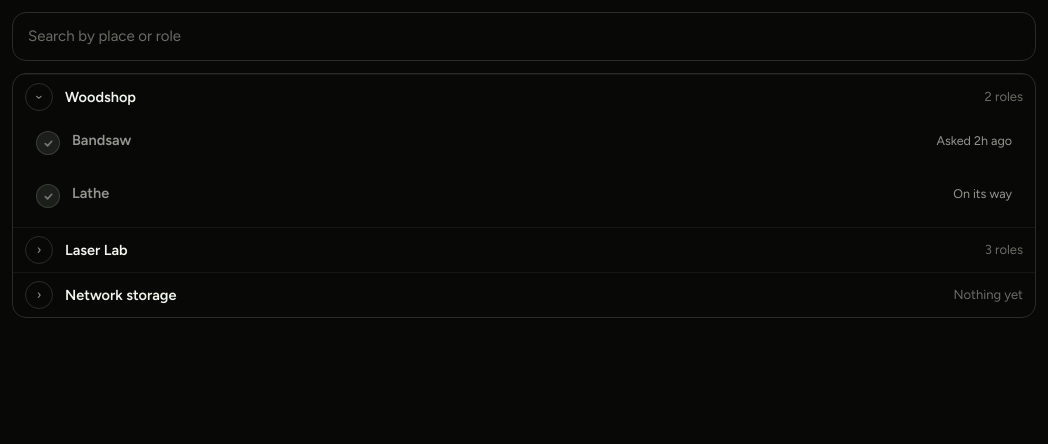
Test: RolePicker · single choice › a member reads Asked and On its way, and never a key, a count or the Waits mark
Expected: the text "Asked 2h ago" is shown, [936, 132, 1012, 150]
Expected: the text "On its way" is shown, [953, 185, 1012, 203]
Click the button "› Laser Lab 3 roles".
click(96, 250)  # box [13, 228, 1035, 272]
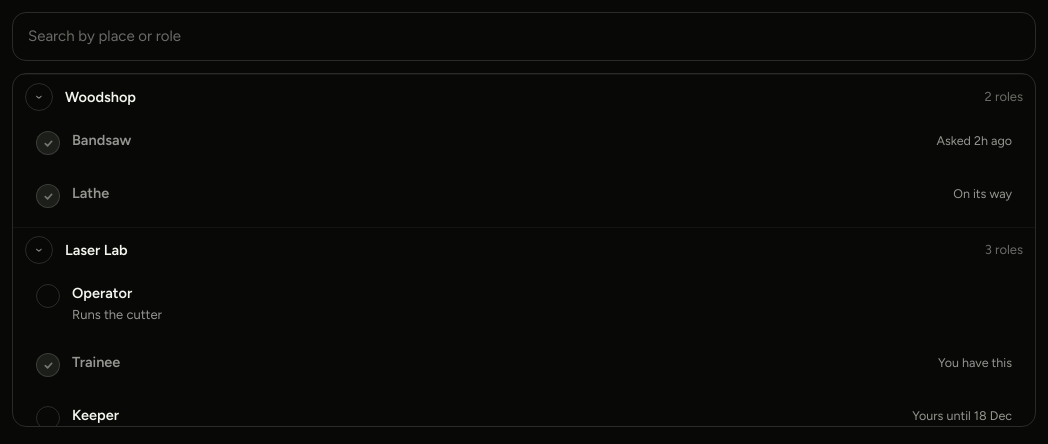
Expected: the text "Runs the cutter" is shown, [72, 306, 162, 322]
